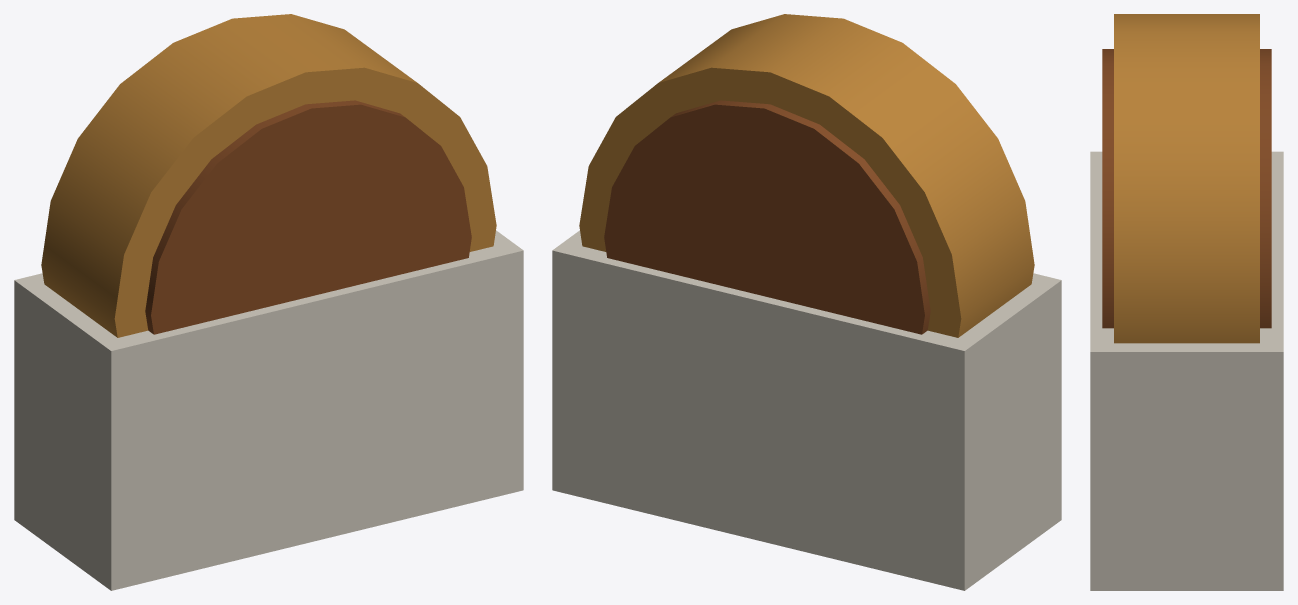
The model's file is item_obanyaki.glb.
3 renders of one model, left to right at view 1: azimuth 30°, elevation 25°; view 2: azimuth 150°, elevation 25°; view 3: azimuth 270°, elevation 25°, orthographic.
Parts seen in each view (by area): view 1: item_obanyaki; view 2: item_obanyaki; view 3: item_obanyaki.
Part boxes in pixels (bbox=[...]): item_obanyaki: bbox=[14, 14, 523, 590]; item_obanyaki: bbox=[552, 14, 1061, 590]; item_obanyaki: bbox=[1090, 14, 1283, 590].
Size of the model in its own units: 0.108 by 0.115 by 0.044.
